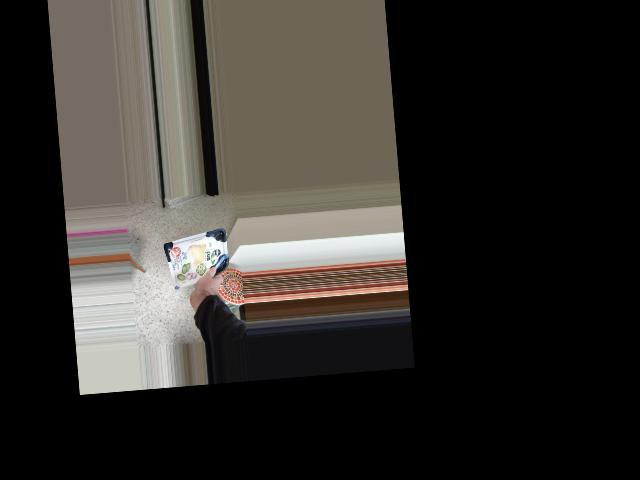cheese: (170, 245, 221, 298)
